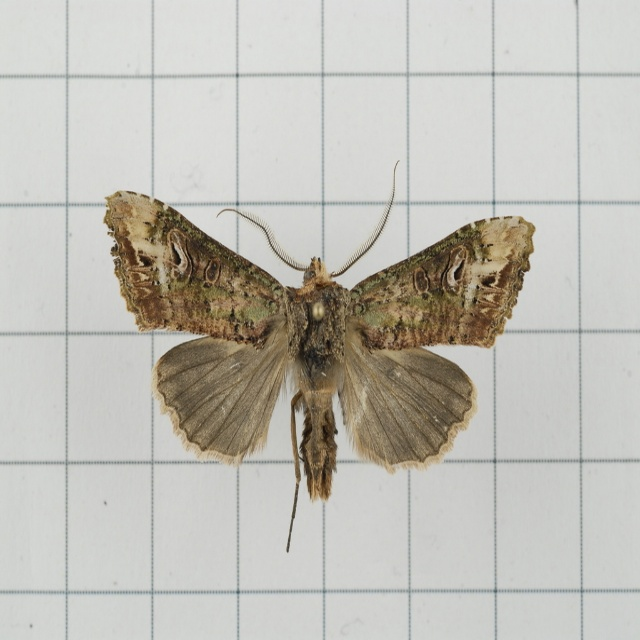Butterfly: (119, 189, 526, 520)
